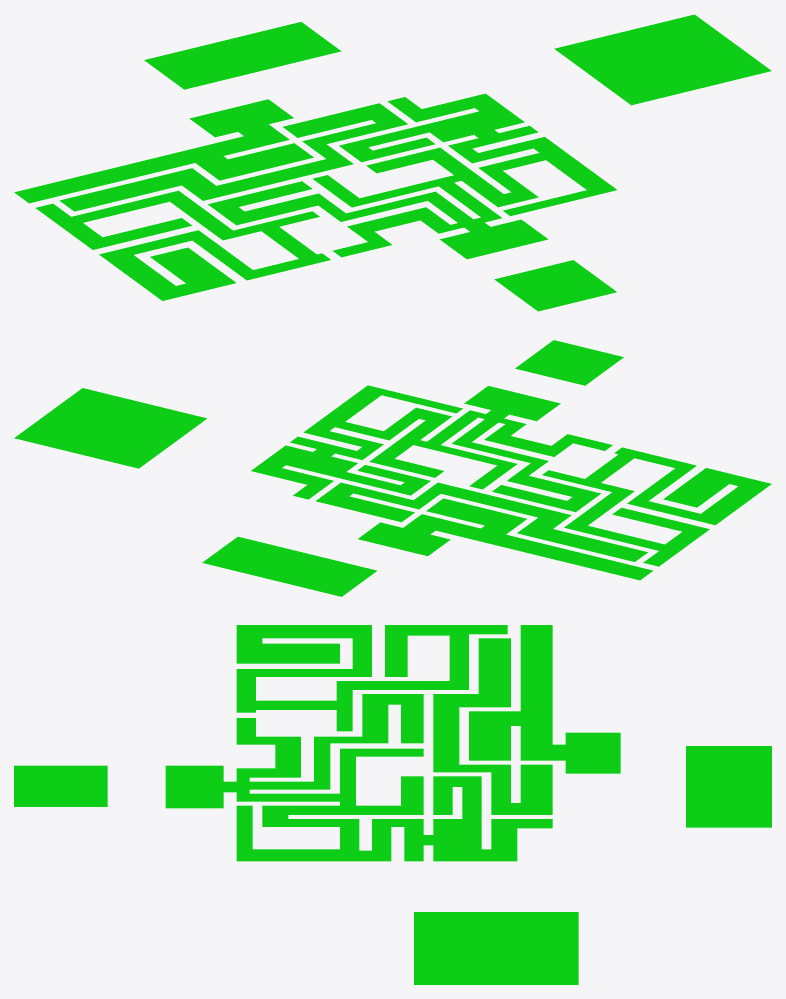
The model's file is greenNavMesh.gltf.
The picture shows the model from 3 angles, top to bottom: view 1: azimuth 30°, elevation 25°; view 2: azimuth 150°, elevation 25°; view 3: azimuth 270°, elevation 25°; orthographic projection. The views are drawn at different scales.
Parts seen in each view (by area): view 1: navMesh; view 2: navMesh; view 3: navMesh.
Part boxes in pixels (x1,y1,x2,y2): navMesh: (14, 14, 771, 311); navMesh: (14, 340, 771, 596); navMesh: (14, 625, 771, 984).
Size of the model in its own units: 118 by 3.53e-05 by 105.
